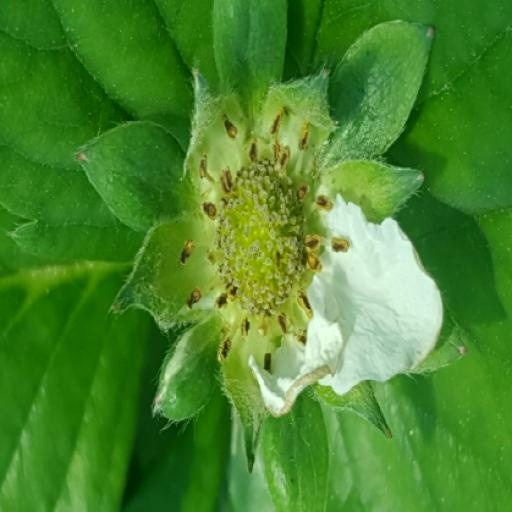Blossom Blight: (171, 136, 354, 405)
